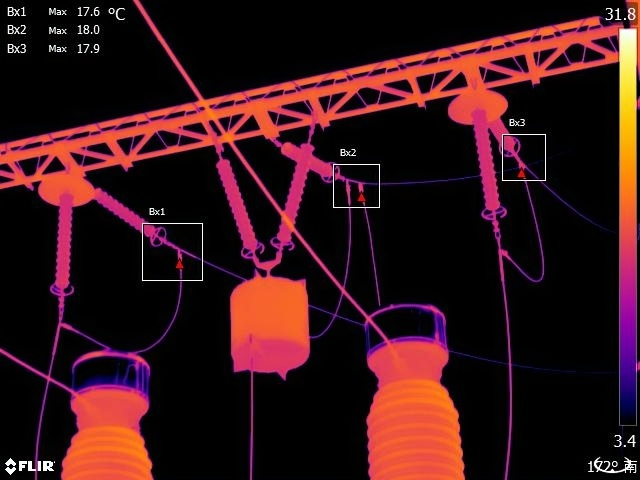clamp: (488, 241, 512, 266), (50, 315, 75, 334), (340, 172, 356, 199), (171, 241, 190, 262), (354, 173, 367, 198)
current transformer: (360, 291, 473, 480), (53, 343, 163, 480)
insulator: (216, 148, 268, 261), (89, 181, 169, 251), (270, 135, 315, 256), (470, 102, 509, 227), (47, 187, 79, 299), (274, 134, 343, 183), (490, 110, 523, 163)
wave trap: (223, 269, 319, 379)
